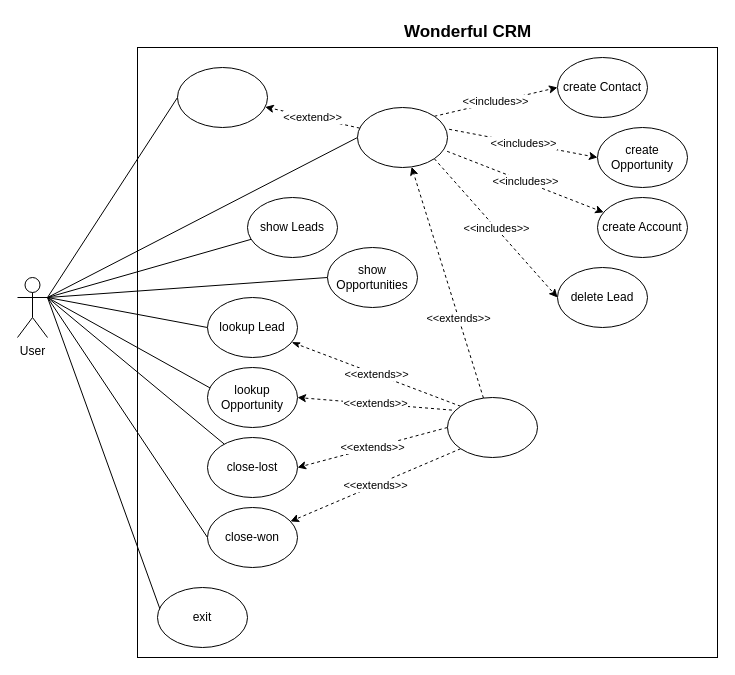
Image size: 735x675. Some labels were removed from this diagram. Here are the shapes that lost their labels. From the top down, the centre of each, then its label:
the point at 222,97: create a new Lead
the point at 402,137: convert to Opportunity
the point at 492,427: Error message
